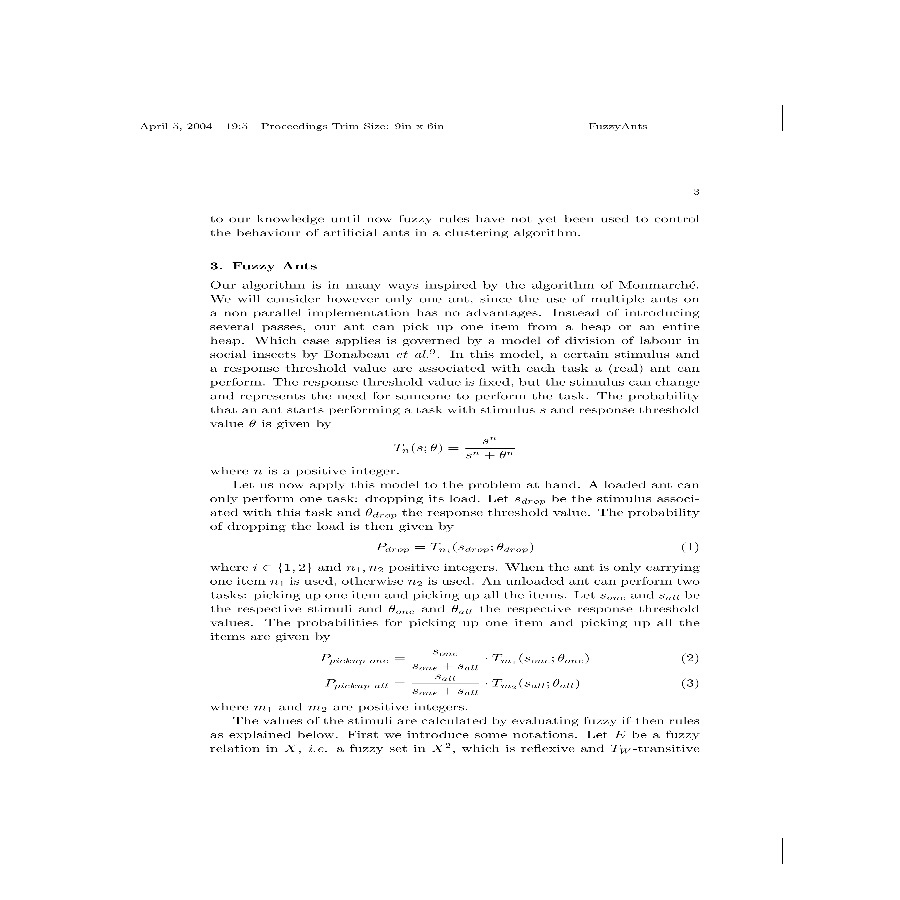eq: (319, 648, 594, 671), (324, 673, 581, 697), (373, 536, 541, 558), (391, 434, 519, 462)
